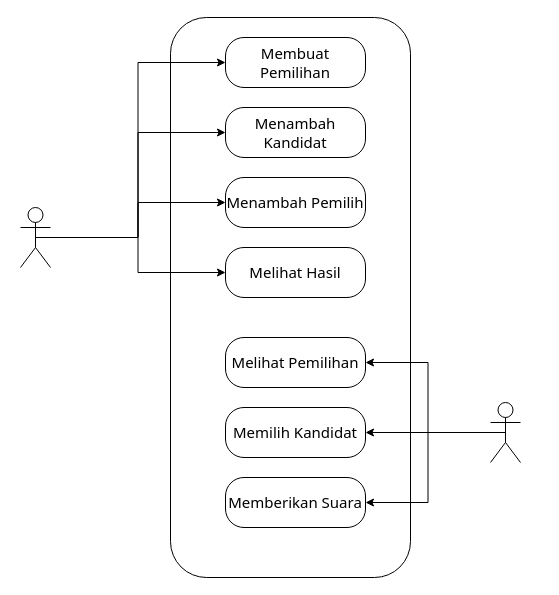
Image size: 559x595. Some labels were removed from this diagram. Here are the shapes that lost their labels. From the top down, the centre of each, then its label:
At (x=35, y=237): "Admin".
At (x=505, y=432): "Pemilih/User".
